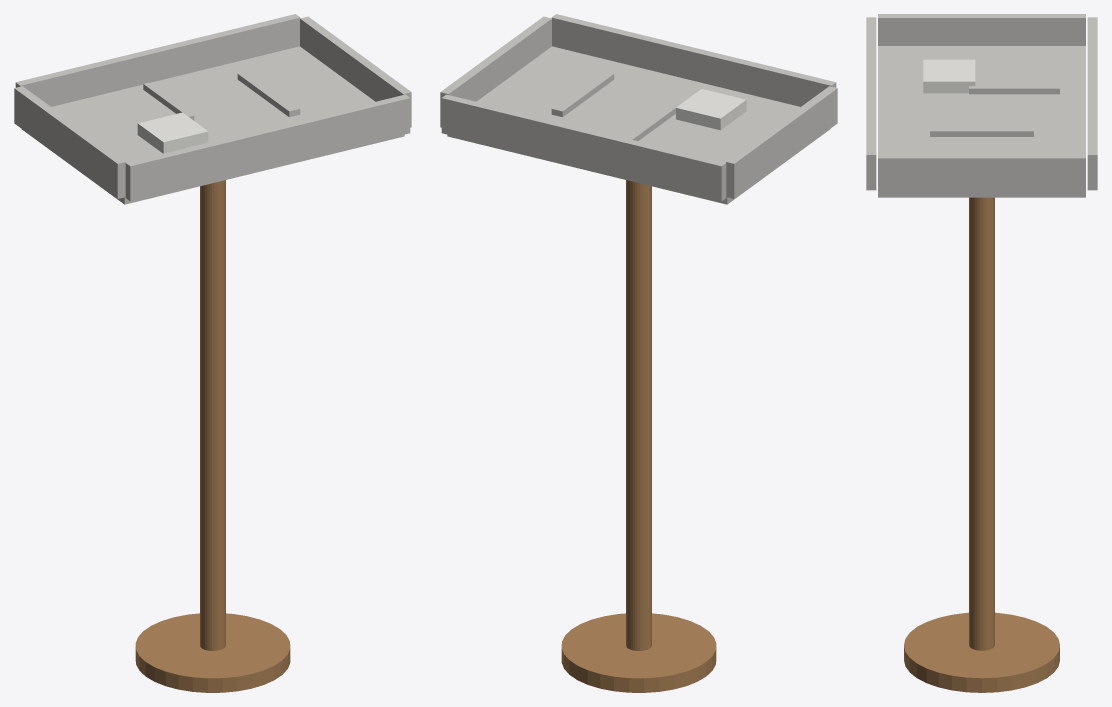
Rendered from prop_medical_tray.fbx.
The picture shows the model from 3 angles, left to right: view 1: azimuth 30°, elevation 25°; view 2: azimuth 150°, elevation 25°; view 3: azimuth 270°, elevation 25°; orthographic projection.
Visible parts, largest first — view 1: Tray_Base, Tray_Pole, Tray_Wall_F, Tray_Base_Ring, Tray_Wall_B, Tray_Wall_L, Tray_Wall_R, Tool_Gauze, Tool_Scissors; view 2: Tray_Base, Tray_Pole, Tray_Wall_B, Tray_Base_Ring, Tray_Wall_F, Tray_Wall_L, Tray_Wall_R, Tool_Gauze, Tool_Scissors; view 3: Tray_Base, Tray_Pole, Tray_Base_Ring, Tray_Wall_R, Tray_Wall_L, Tray_Wall_B, Tray_Wall_F, Tool_Gauze, Tool_Scissors, Tool_Tweezers.
Part boxes in pixels (bbox=[...]): Tray_Base: bbox=[21, 46, 404, 204]; Tray_Pole: bbox=[200, 180, 225, 650]; Tray_Wall_F: bbox=[125, 94, 410, 201]; Tray_Base_Ring: bbox=[135, 613, 290, 692]; Tray_Wall_B: bbox=[15, 14, 300, 106]; Tray_Wall_L: bbox=[14, 86, 125, 198]; Tray_Wall_R: bbox=[300, 16, 411, 127]; Tool_Gauze: bbox=[137, 112, 208, 153]; Tool_Scissors: bbox=[237, 71, 300, 117]; Tray_Base: bbox=[447, 46, 830, 204]; Tray_Pole: bbox=[626, 180, 651, 650]; Tray_Wall_B: bbox=[441, 94, 726, 201]; Tray_Base_Ring: bbox=[561, 613, 716, 692]; Tray_Wall_F: bbox=[551, 14, 836, 106]; Tray_Wall_L: bbox=[726, 86, 837, 198]; Tray_Wall_R: bbox=[440, 16, 551, 127]; Tool_Gauze: bbox=[676, 89, 746, 130]; Tool_Scissors: bbox=[551, 71, 614, 117]; Tray_Base: bbox=[878, 46, 1085, 197]; Tray_Pole: bbox=[969, 197, 994, 650]; Tray_Base_Ring: bbox=[904, 612, 1059, 692]; Tray_Wall_R: bbox=[878, 154, 1085, 193]; Tray_Wall_L: bbox=[878, 14, 1085, 45]; Tray_Wall_B: bbox=[1087, 17, 1097, 190]; Tray_Wall_F: bbox=[866, 17, 876, 190]; Tool_Gauze: bbox=[923, 59, 975, 93]; Tool_Scissors: bbox=[930, 125, 1033, 136]; Tool_Tweezers: bbox=[969, 86, 1059, 94].
Size of the model in its own units: 52.5 by 97.25 by 35.5.
